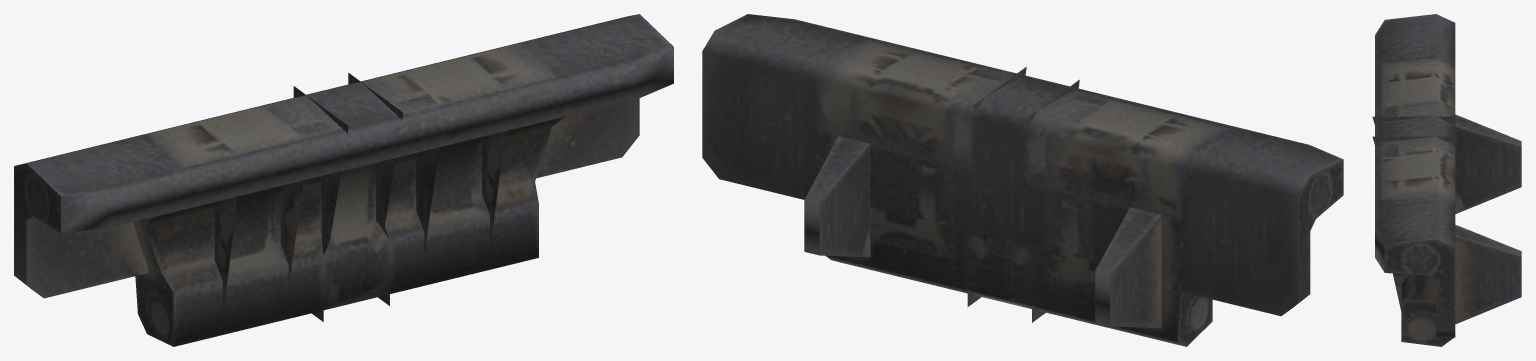
The picture shows the model from 3 angles, left to right: view 1: azimuth 30°, elevation 25°; view 2: azimuth 150°, elevation 25°; view 3: azimuth 270°, elevation 25°; orthographic projection. The views are drawn at different scales.
Visible parts, largest first — view 1: set_0_group_0; view 2: set_0_group_0; view 3: set_0_group_0.
Boxes of the visible parts, <box> form: set_0_group_0: <box>14,14,673,346</box>; set_0_group_0: <box>702,14,1343,346</box>; set_0_group_0: <box>1372,14,1521,346</box>.
Bounding box in the file's own units: 0.4004 × 0.1304 × 0.1121.
1 material, 1 textured.
